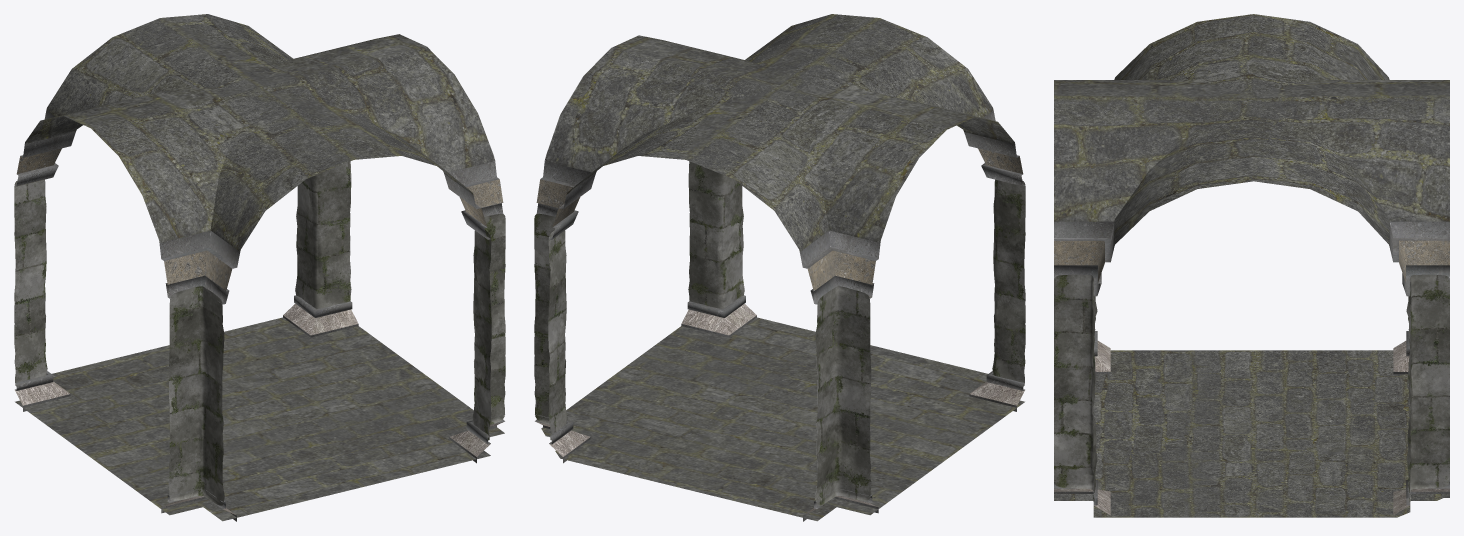
File: tall_hallwasy.fbx
3 views of the same model, side by side, from view 1: azimuth 30°, elevation 25°; view 2: azimuth 150°, elevation 25°; view 3: azimuth 270°, elevation 25° (orthographic). The views are drawn at different scales.
Visible parts, largest first — view 1: Plane.278; view 2: Plane.278; view 3: Plane.278.
Part boxes in pixels (x1,y1,x2,y2): Plane.278: [14, 14, 505, 521]; Plane.278: [534, 14, 1025, 521]; Plane.278: [1054, 14, 1449, 517].
Bounding box in the file's own units: 200 × 190 × 200.
